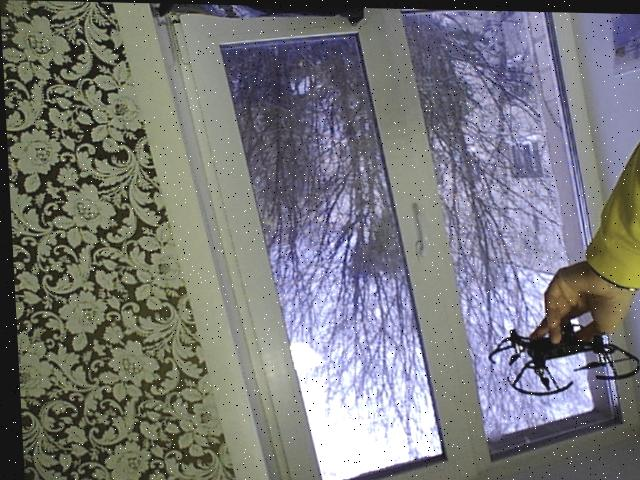drone: (475, 309, 640, 394)
